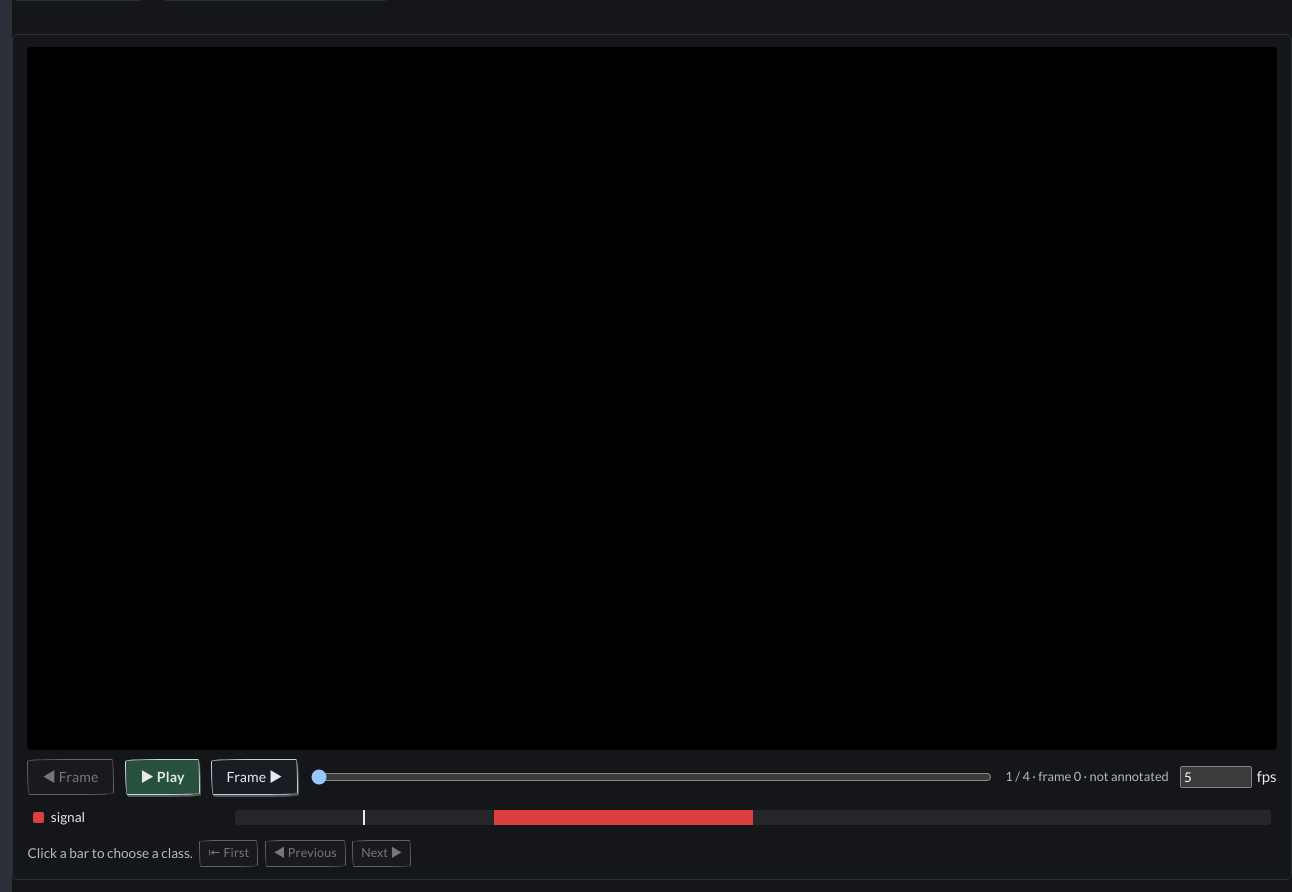
Test case: InspectTab (doc 74) › clicking a bar and pressing First jumps to that class's first frame (doc 75)
This screenshot has width=1292, height=892.
(page scrolled)
Expected: the text "1 / 4 · frame 0 · not annotated" is shown, [1005,767,1169,786]
Click the button with aria-label "signal: on 1 of 4 frames": (652, 818) [27,803,1277,832]
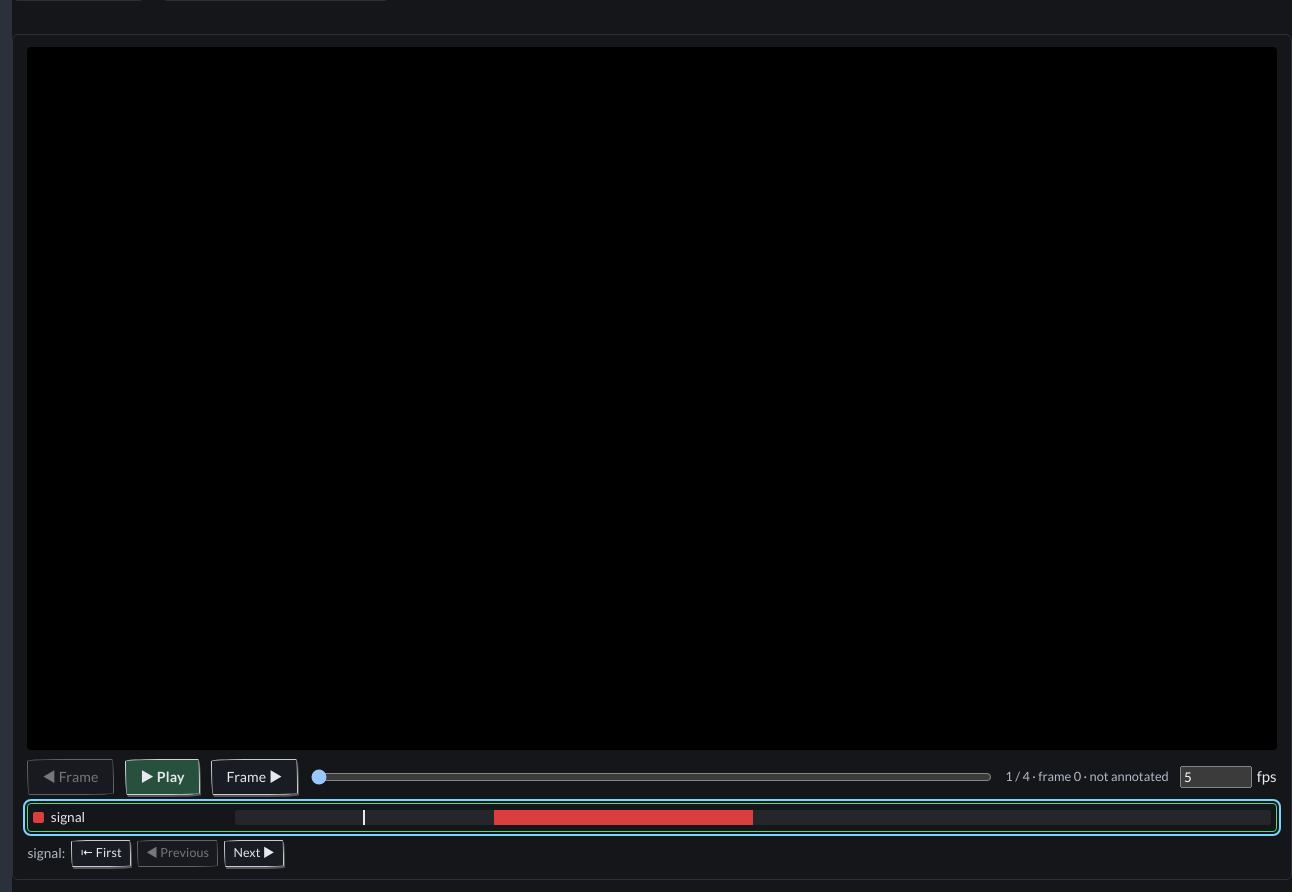
Click the button "⇤ First": (101, 854) [72,840,131,867]
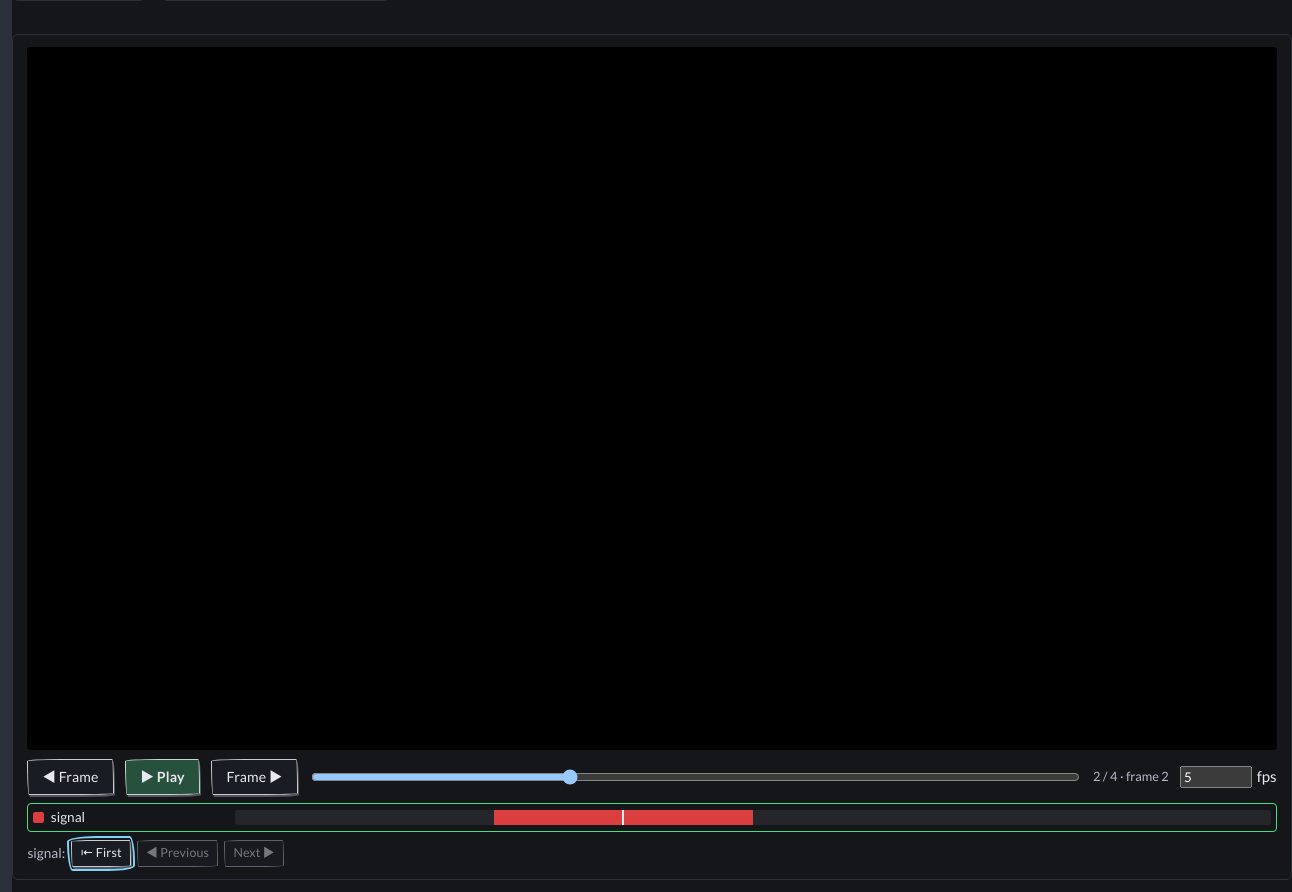
Now the text "2 / 4 · frame 2" is shown, box [1093,767,1169,786]
